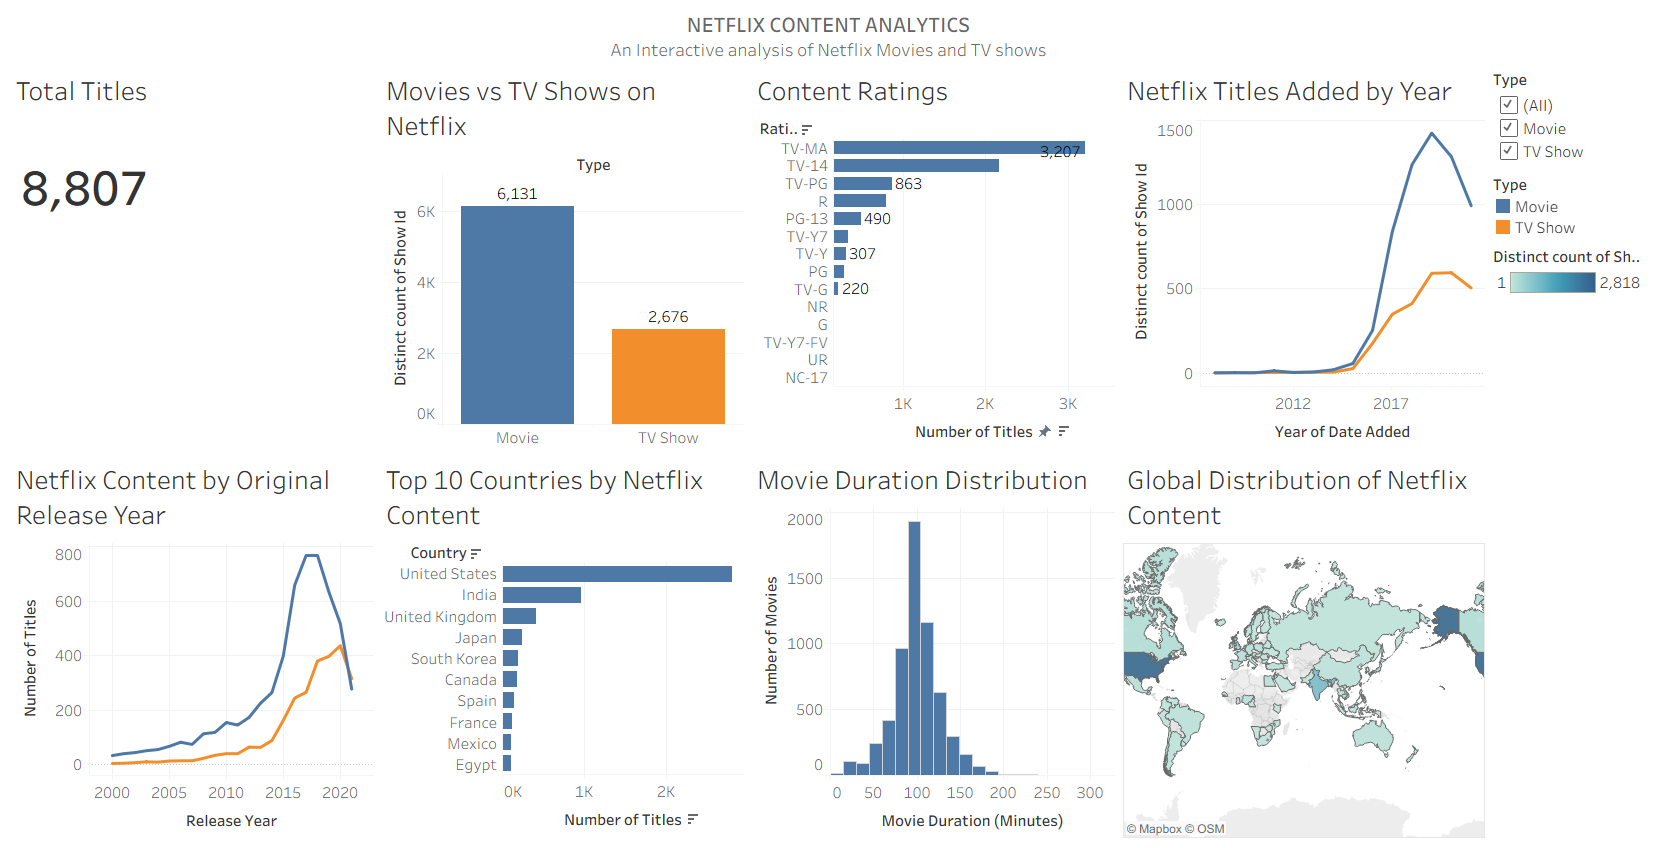

This screenshot's page, from the dashboard's own definition file:
{"tool":"tableau","page":{"name":"Netflix Master Dashboard","canvas":[1000,1000],"units":"permille","ordinal":1},"visuals":[{"type":"text","box":[4.8,9.4,990.3,68.2]},{"type":"worksheet","title":"Total Titles","mark":"Automatic","box":[4.8,77.5,223.4,456.5]},{"type":"worksheet","title":"Movies vs TV Shows on Netflix","mark":"Automatic","rows":["show_id"],"cols":["type"],"box":[228.3,77.5,223.5,456.5]},{"type":"worksheet","title":"Content Ratings","mark":"Automatic","rows":["rating"],"cols":["show_id"],"box":[451.7,77.5,223.4,456.5]},{"type":"worksheet","title":"Netflix Titles Added by Year","mark":"Line","rows":["show_id"],"cols":["date_added"],"box":[675.1,77.5,223.5,456.5]},{"type":"filter","title":"Total Titles","param":"[federated.0eufnai0agxeri1cmofw512g7qs7].[none:type:nk]","box":[898.6,77.5,96.6,123.4]},{"type":"legend","title":"Movies vs TV Shows on Netflix","param":"[federated.0eufnai0agxeri1cmofw512g7qs7].[none:type:nk]","box":[898.6,200.9,96.6,84.6]},{"type":"legend","title":"Global Distribution of Netflix Content","param":"[federated.0eufnai0agxeri1cmofw512g7qs7].[ctd:show_id:qk]","box":[898.6,285.5,96.6,85.8]},{"type":"worksheet","title":"Netflix Content by Original Release Year","mark":"Line","rows":["show_id"],"cols":["release_year"],"box":[4.8,534.1,223.4,456.5]},{"type":"worksheet","title":"Top 10 Countries by Netflix Content","mark":"Automatic","rows":["country"],"cols":["show_id"],"box":[228.3,534.1,223.5,456.5]},{"type":"worksheet","title":"Movie Duration Distribution","mark":"Automatic","rows":["Calculation_0655914446835712"],"cols":["Movie Duration (Minutes) (bin)"],"box":[451.7,534.1,223.4,456.5]},{"type":"worksheet","title":"Global Distribution of Netflix Content","mark":"Automatic","box":[675.1,534.1,223.5,456.5]}]}

Visuals, with their boxes on the dashboard's canvas, which has no fixed pixel size, in thousandths of its width and height (x1, y1, x2, y2). These are canvas units, not pixel positions in the 1655x848 screenshot, which may show the page scaled, cropped or inside an application window:
text: [left=5, top=9, right=995, bottom=78]
"Total Titles" worksheet: [left=5, top=78, right=228, bottom=534]
"Movies vs TV Shows on Netflix" worksheet: [left=228, top=78, right=452, bottom=534]
"Content Ratings" worksheet: [left=452, top=78, right=675, bottom=534]
"Netflix Titles Added by Year" worksheet (Line marks): [left=675, top=78, right=899, bottom=534]
"Total Titles" filter: [left=899, top=78, right=995, bottom=201]
"Movies vs TV Shows on Netflix" legend: [left=899, top=201, right=995, bottom=286]
"Global Distribution of Netflix Content" legend: [left=899, top=286, right=995, bottom=371]
"Netflix Content by Original Release Year" worksheet (Line marks): [left=5, top=534, right=228, bottom=991]
"Top 10 Countries by Netflix Content" worksheet: [left=228, top=534, right=452, bottom=991]
"Movie Duration Distribution" worksheet: [left=452, top=534, right=675, bottom=991]
"Global Distribution of Netflix Content" worksheet: [left=675, top=534, right=899, bottom=991]
